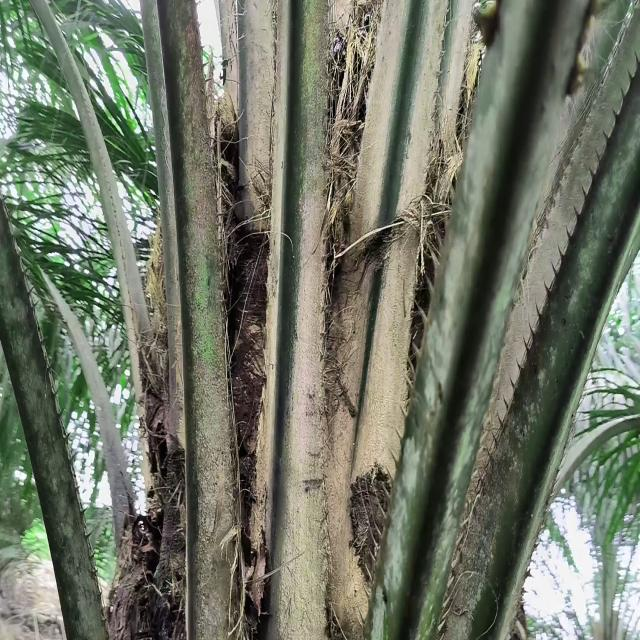palm-oil: (326, 14, 382, 233)
